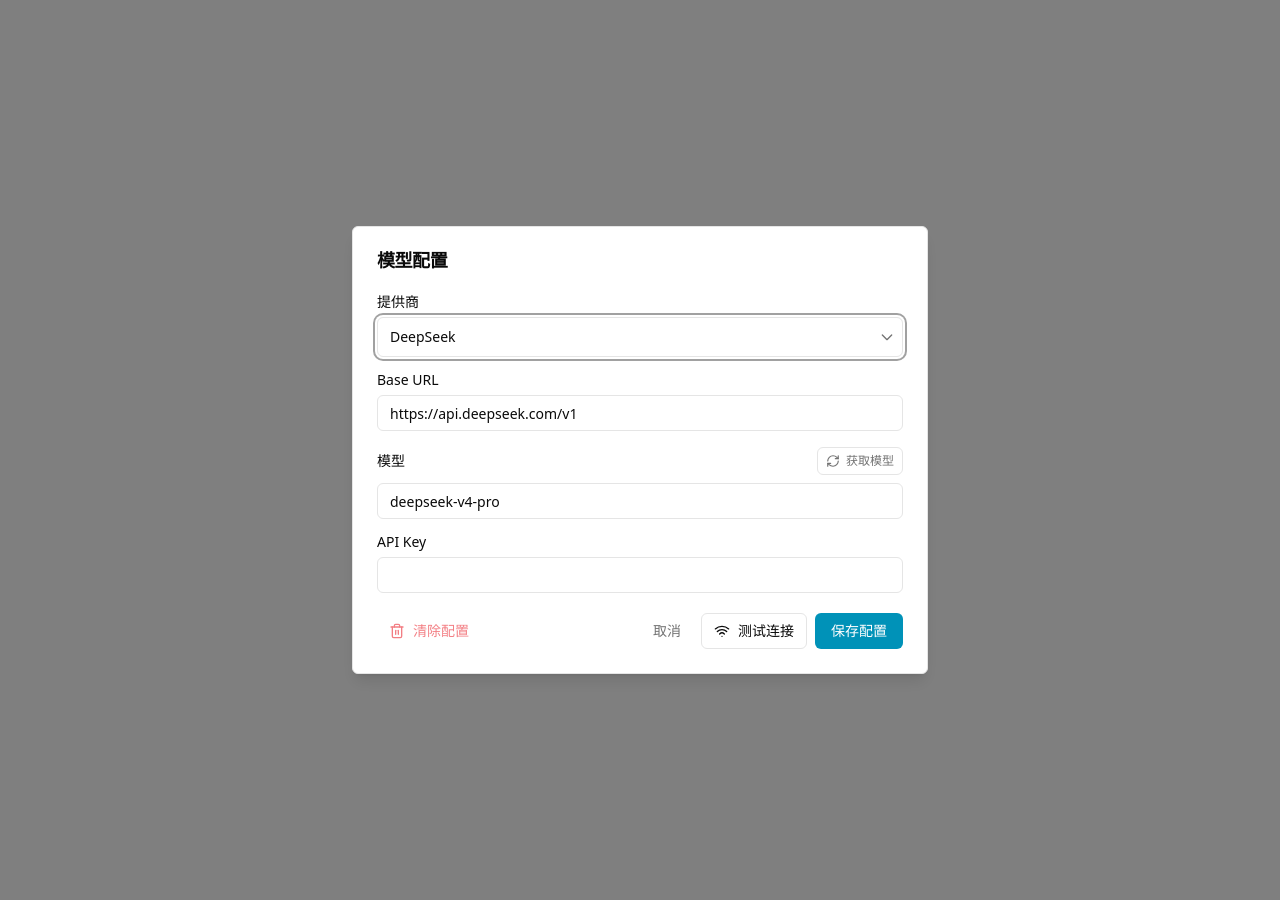
Test: ModelConfigDialog › applies local provider defaults and allows a keyless configuration
Step 1. Select "Ollama" in the dropdown labelled "提供商" → (640,337), box [377, 317, 903, 357]
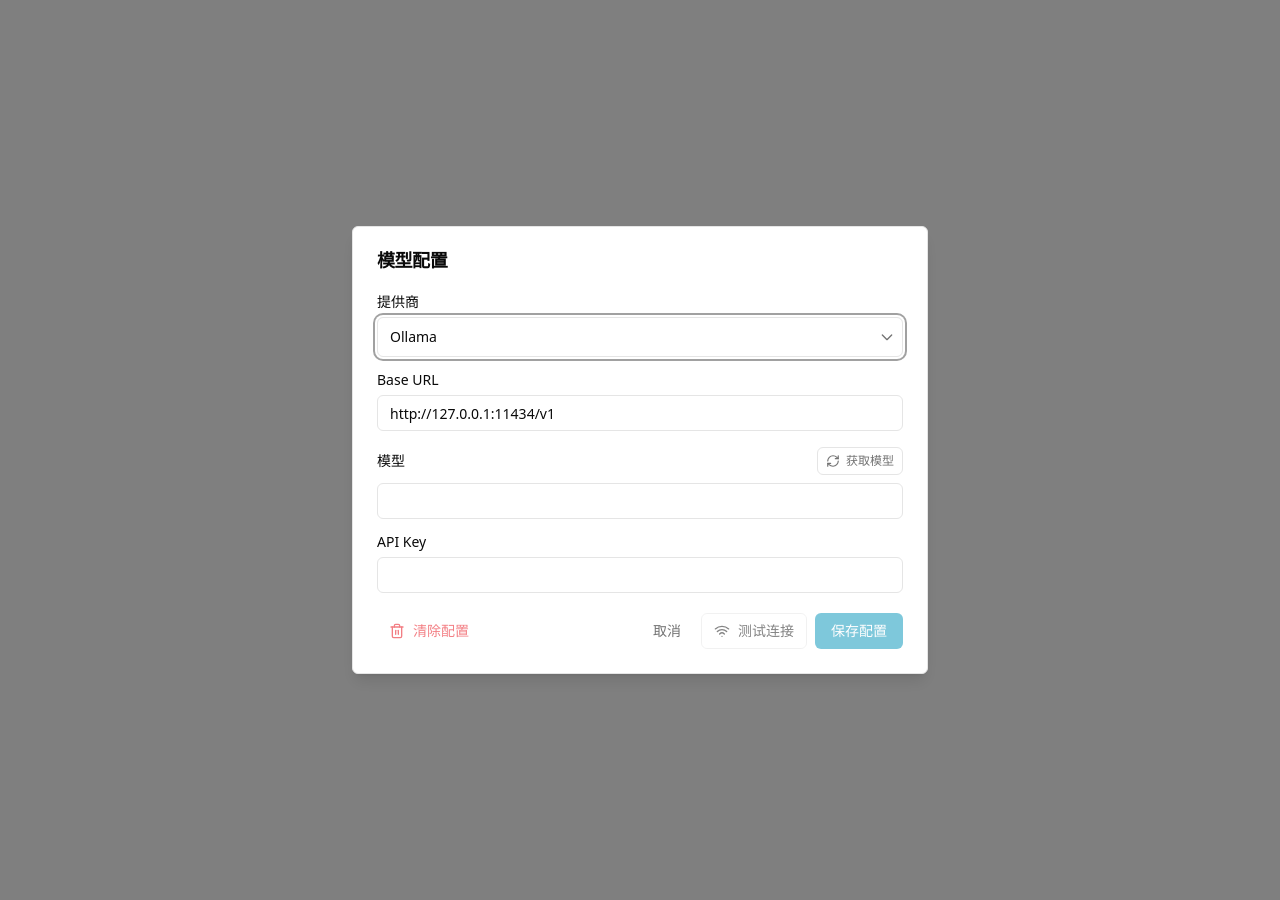
Now the field labelled "Base URL" holds "http://127.0.0.1:11434/v1", box [377, 395, 903, 431]
